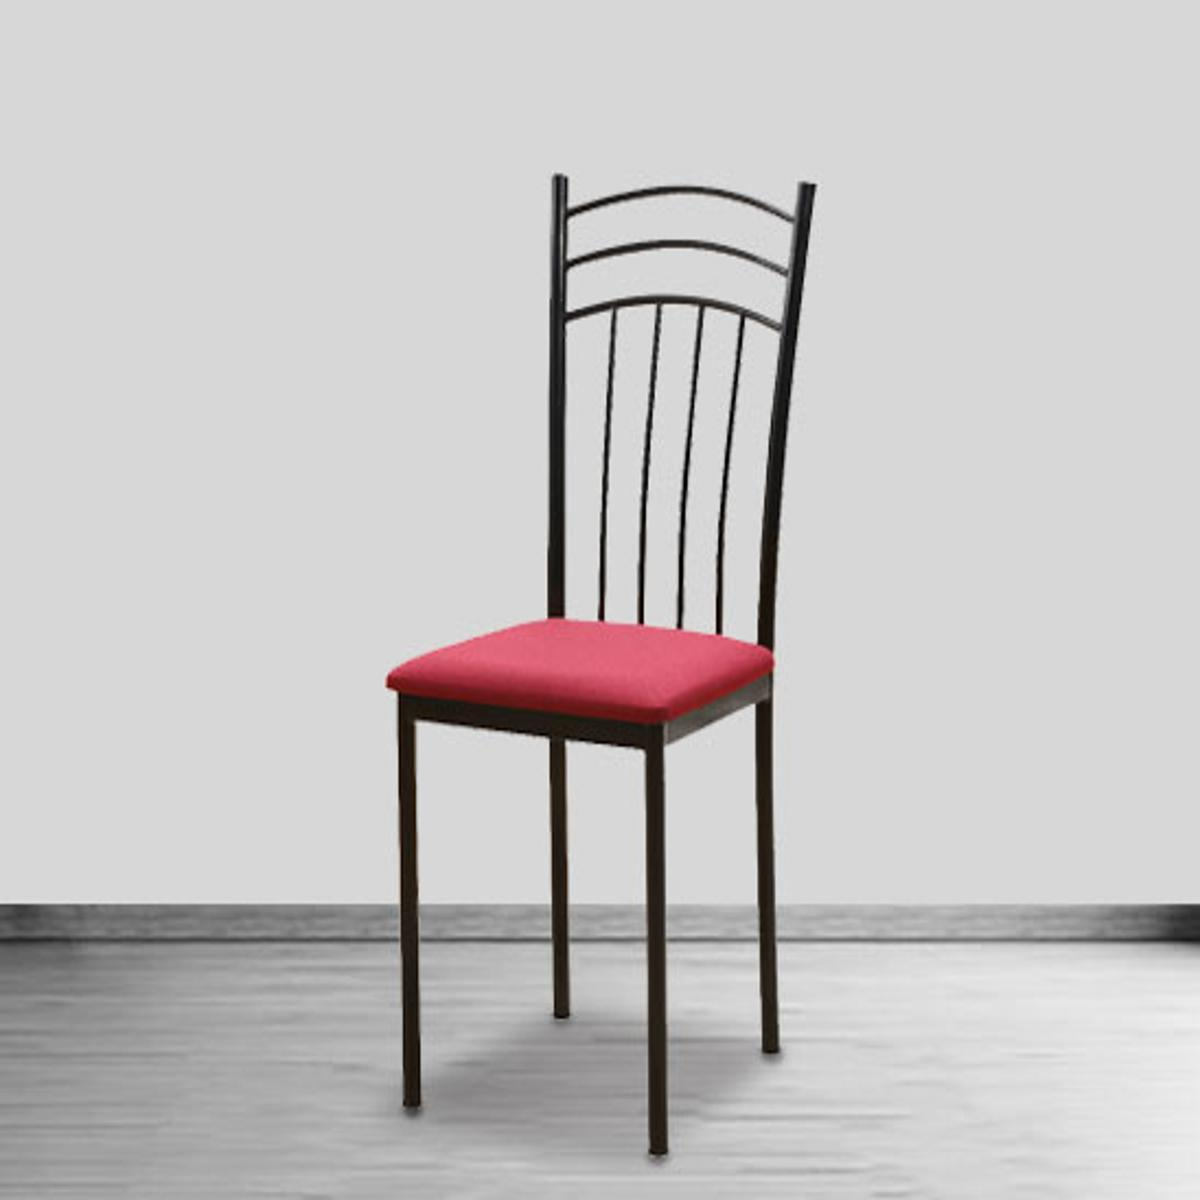Chair: (379, 175, 818, 1160)
